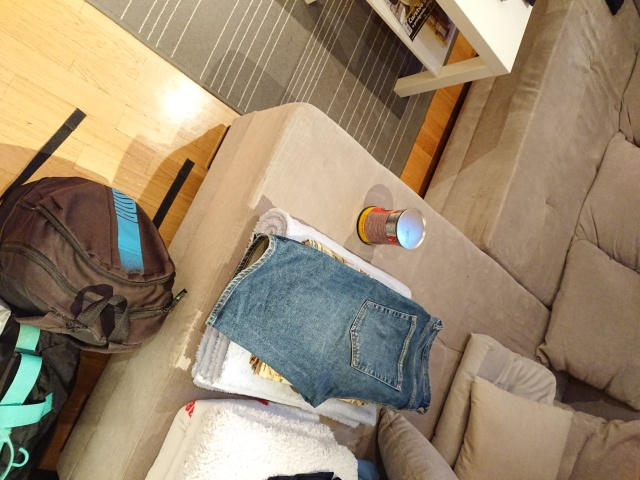Nescafe Classic 225g: (354, 203, 430, 252)
